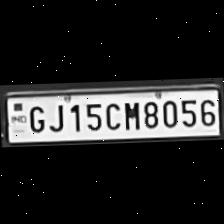0: (158, 96, 178, 128)
1: (65, 100, 83, 132)
5: (80, 98, 102, 131), (177, 96, 197, 128)
6: (197, 94, 217, 127)
8: (139, 97, 159, 128)
C: (102, 99, 120, 131)
G: (24, 101, 46, 132)
J: (45, 100, 65, 132)
M: (120, 99, 140, 130)
